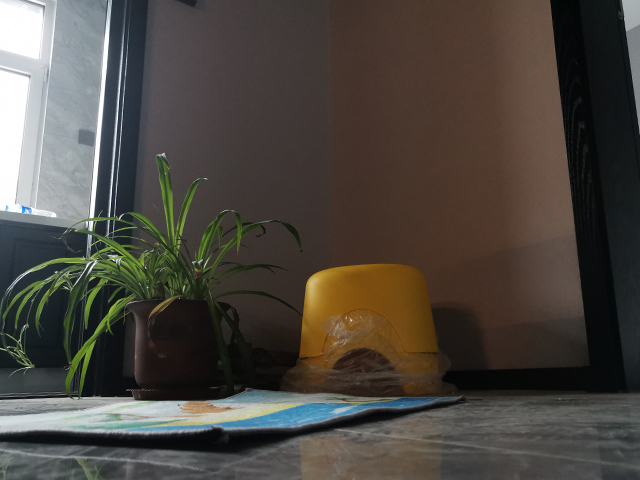carpet: (1, 386, 469, 449)
stool: (292, 261, 446, 396)
